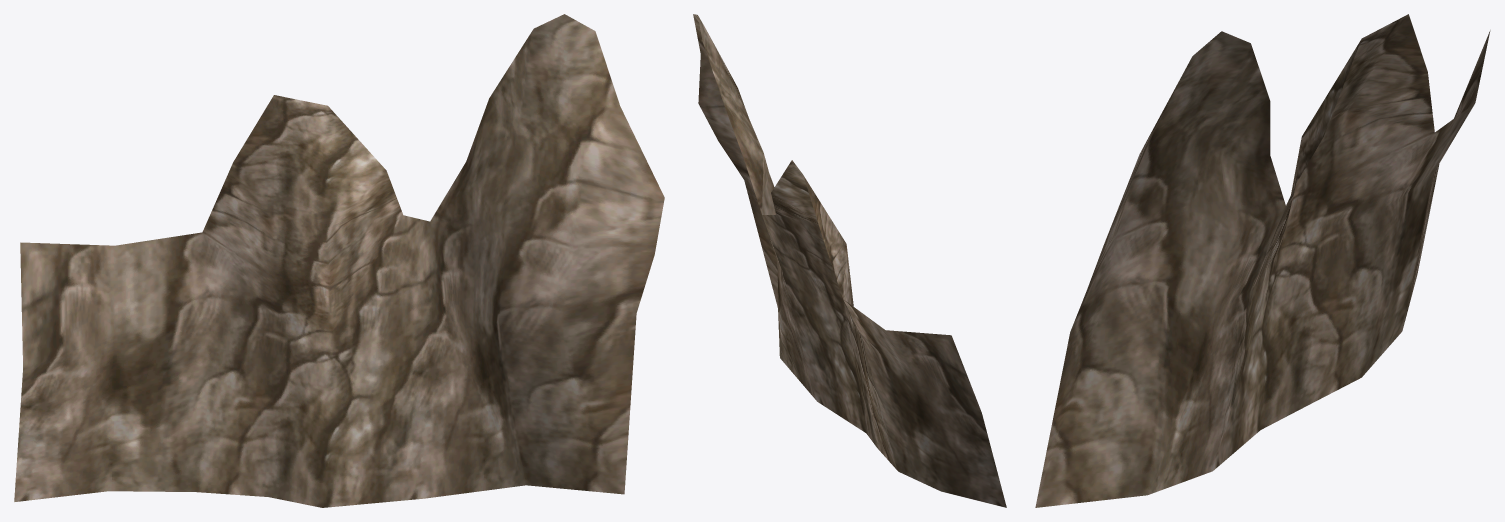
File: OVERHILL_A_01_OBJECT40.fbx
3 views of the same model, side by side, from view 1: azimuth 30°, elevation 25°; view 2: azimuth 150°, elevation 25°; view 3: azimuth 270°, elevation 25° (orthographic). The views are drawn at different scales.
Parts seen in each view (by area): view 1: OVERHILL_A_01_OBJECT40; view 2: OVERHILL_A_01_OBJECT40; view 3: OVERHILL_A_01_OBJECT40.
Part boxes in pixels (x1=…): OVERHILL_A_01_OBJECT40: x1=14, y1=14, x2=664, y2=507; OVERHILL_A_01_OBJECT40: x1=693, y1=14, x2=1006, y2=507; OVERHILL_A_01_OBJECT40: x1=1035, y1=14, x2=1490, y2=507.
Size of the model in its own units: 191486 by 159874 by 125016.
1 material, 1 textured.
